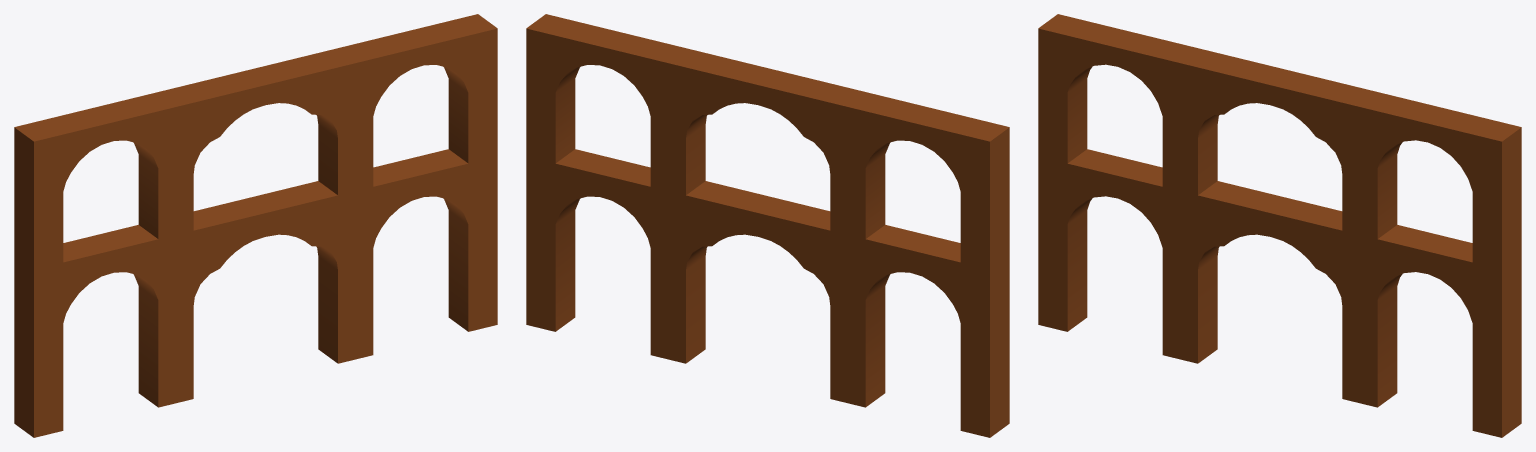
Rendered from corridoor_back_backwall_01.FBX.
3 renders of one model, left to right at view 1: azimuth 30°, elevation 25°; view 2: azimuth 150°, elevation 25°; view 3: azimuth 330°, elevation 25°, orthographic.
Visible parts, largest first — view 1: corridoor_back_backwall_01; view 2: corridoor_back_backwall_01; view 3: corridoor_back_backwall_01.
Part boxes in pixels (left/top/right/bottom): corridoor_back_backwall_01: left=14, top=14, right=497, bottom=437; corridoor_back_backwall_01: left=526, top=14, right=1009, bottom=437; corridoor_back_backwall_01: left=1038, top=14, right=1521, bottom=437.
Bounding box in the file's own units: 2404 × 1468 × 178.
